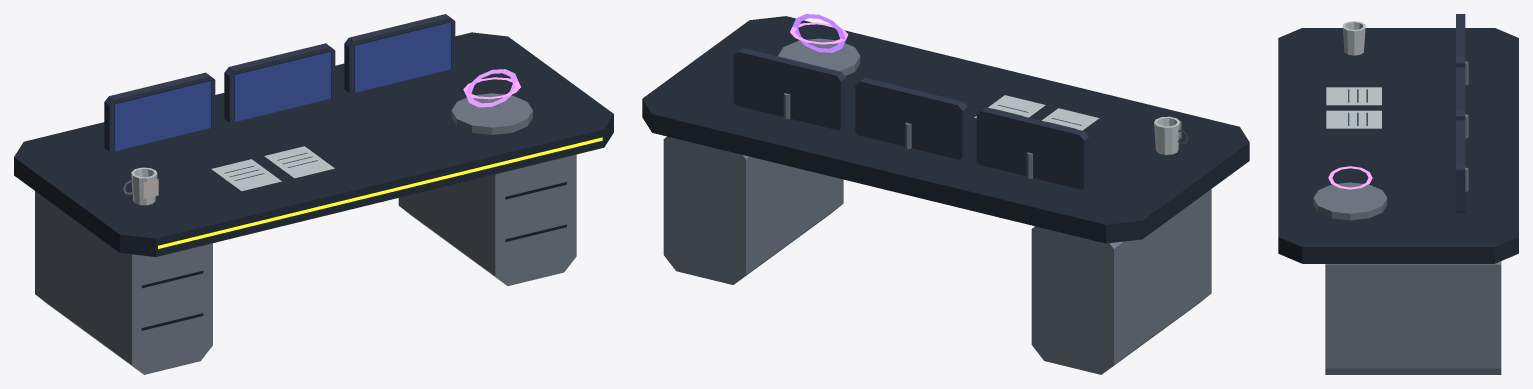
Rendered from fus_director_desk.glb.
The picture shows the model from 3 angles, left to right: view 1: azimuth 30°, elevation 25°; view 2: azimuth 150°, elevation 25°; view 3: azimuth 270°, elevation 25°; orthographic projection. The views are drawn at different scales.
Visible parts, largest first — view 1: executive_worktop, model_projector, print, bezel, director_mug, desktop_inlay, drawer_reveal, field_model; view 2: executive_worktop, model_projector, bezel, director_mug, field_model; view 3: executive_worktop, model_projector, director_mug, bezel, field_model.
Part boxes in pixels (<box>): executive_worktop: <box>14,32,613,256</box>; model_projector: <box>35,93,576,374</box>; print: <box>114,22,450,151</box>; bezel: <box>104,14,455,153</box>; director_mug: <box>131,146,334,205</box>; desktop_inlay: <box>158,137,602,248</box>; drawer_reveal: <box>114,21,566,330</box>; field_model: <box>463,69,520,107</box>; executive_worktop: <box>642,16,1249,243</box>; model_projector: <box>663,38,1211,374</box>; bezel: <box>733,48,1088,189</box>; director_mug: <box>974,95,1180,154</box>; field_model: <box>790,14,848,52</box>; executive_worktop: <box>1278,28,1518,263</box>; model_projector: <box>1313,61,1501,374</box>; director_mug: <box>1326,21,1381,128</box>; bezel: <box>1456,14,1465,212</box>; field_model: <box>1328,166,1372,189</box>.
Size of the model in its own units: 2.8 by 1.15 by 1.3.
